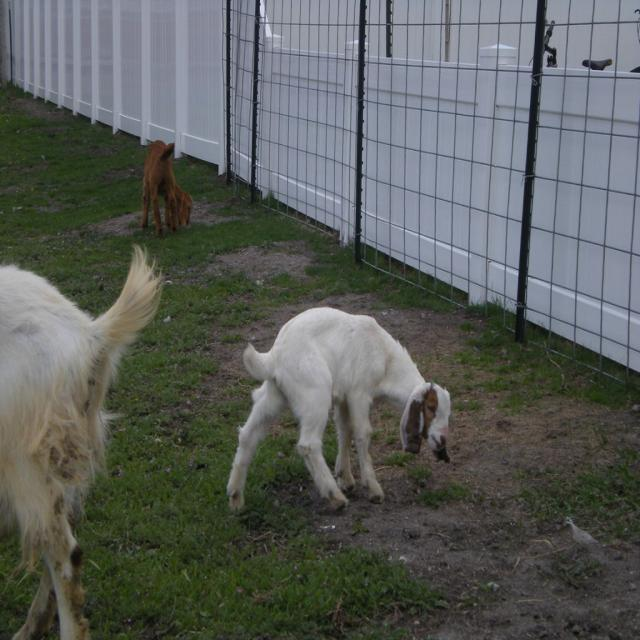Goat: (0, 240, 164, 639), (226, 304, 452, 518), (142, 139, 194, 236)
